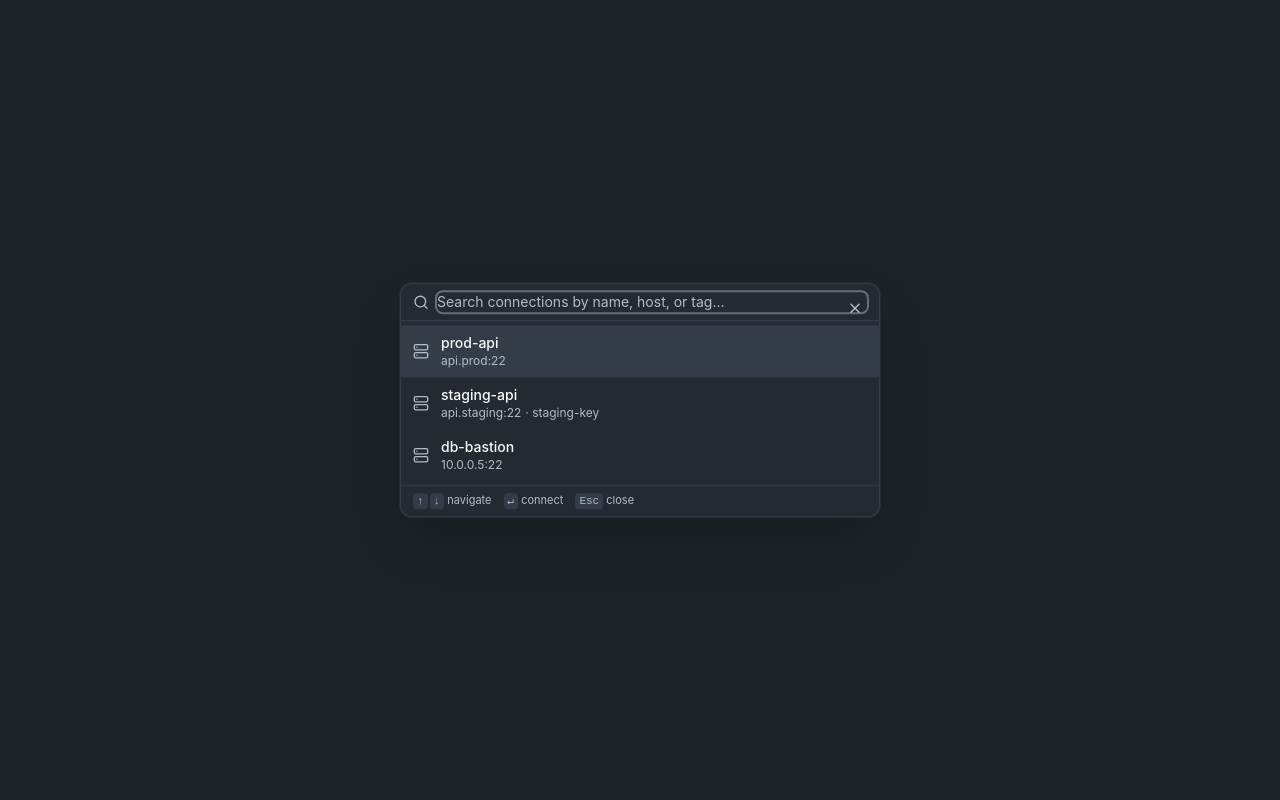
Test case: ConnectPicker (command palette) › filters by name, host, and tag tokens (AND semantics)
The width and height of the screenshot is (1280, 800).
Type "production db" into the dropdown labelled "Search connections by name, host, or tag…" at (652, 302), box [437,292,867,312]
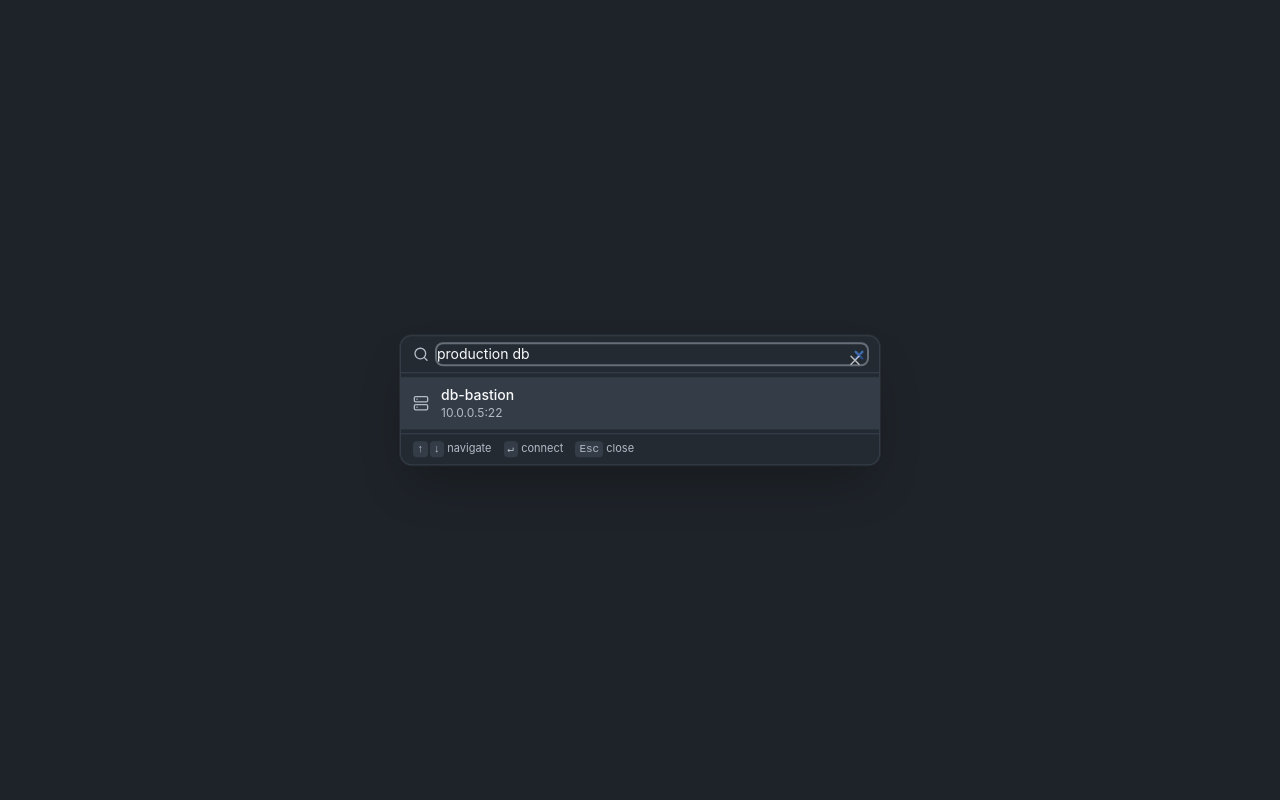
Expected: the option shows "db-bastion", [401,377,879,429]
Now the number of options is 1, box [401,377,879,429]
